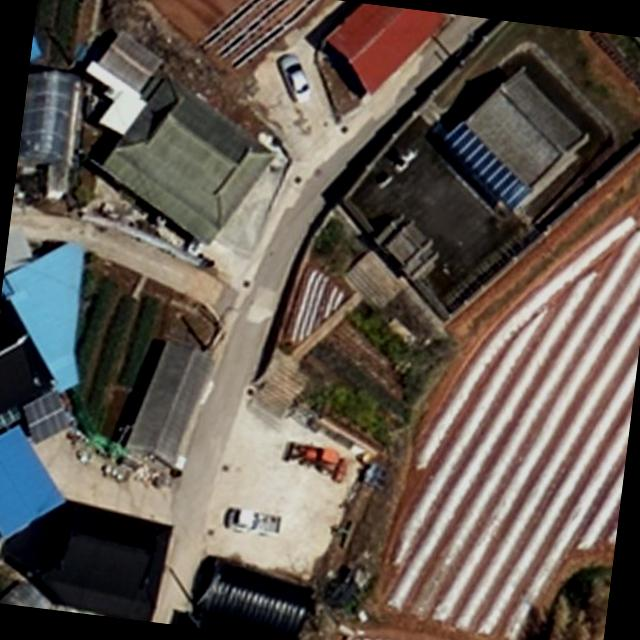solar: (434, 118, 539, 215)
